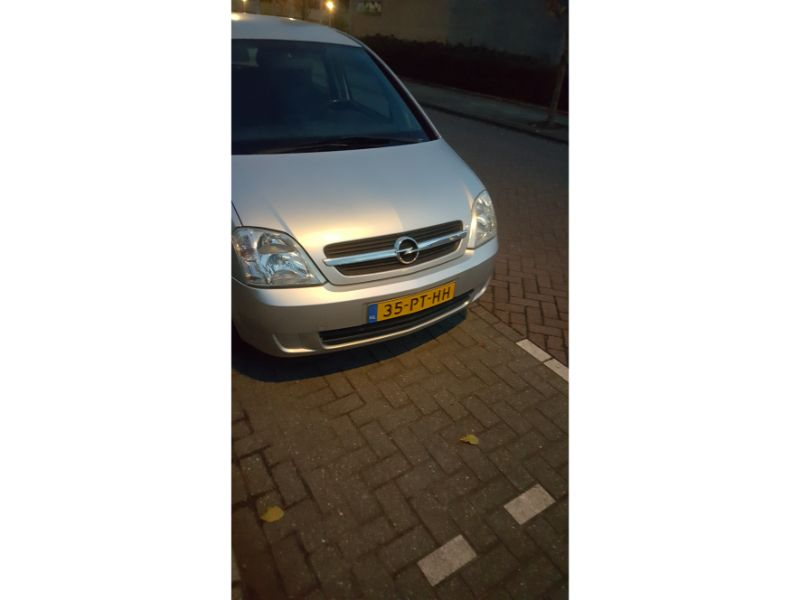kenteken: (369, 283, 457, 327)
